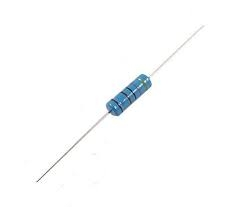resistor: (97, 66, 160, 126)
